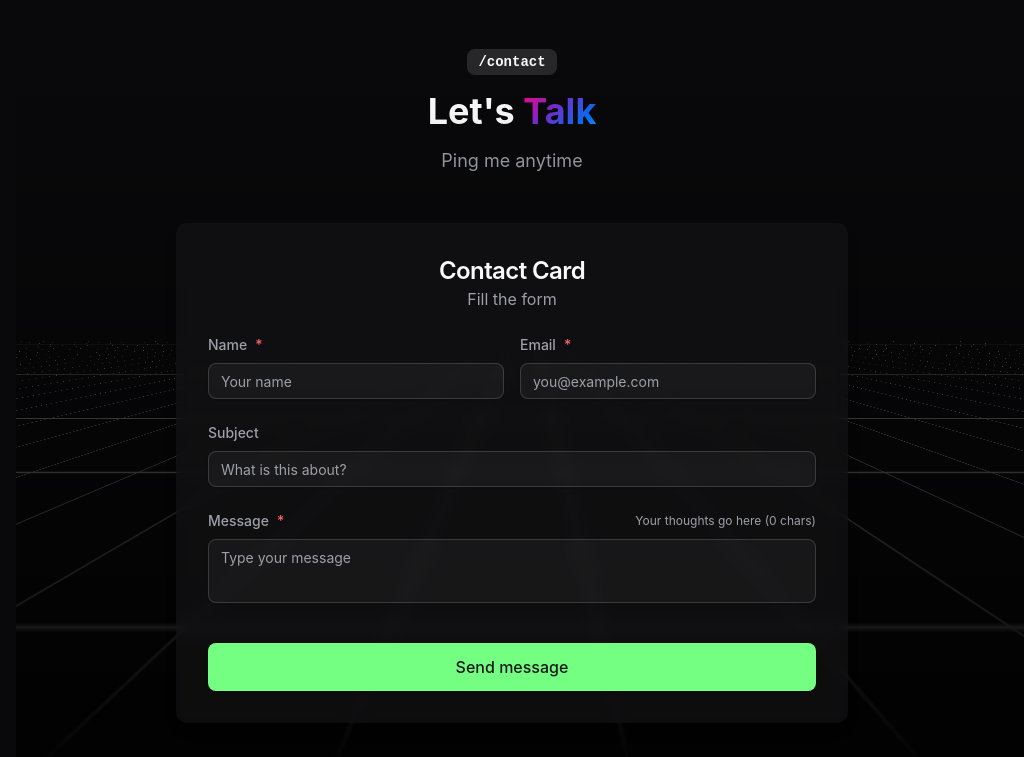
Test: Contact page › updates character helper when user types a message
Type "Hello there!" into the text box labelled "Message *" at (512, 571), box [208,539,816,603]
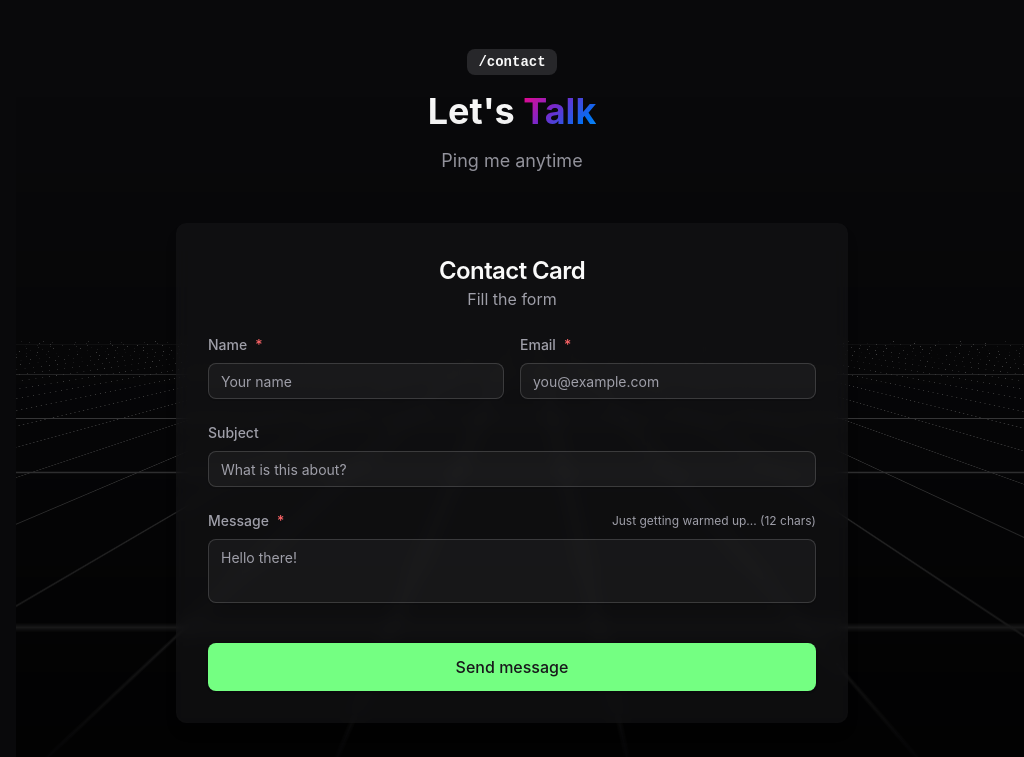
Result: the text "Just getting warmed up... (12 chars)" is shown at [612,513,816,529]
